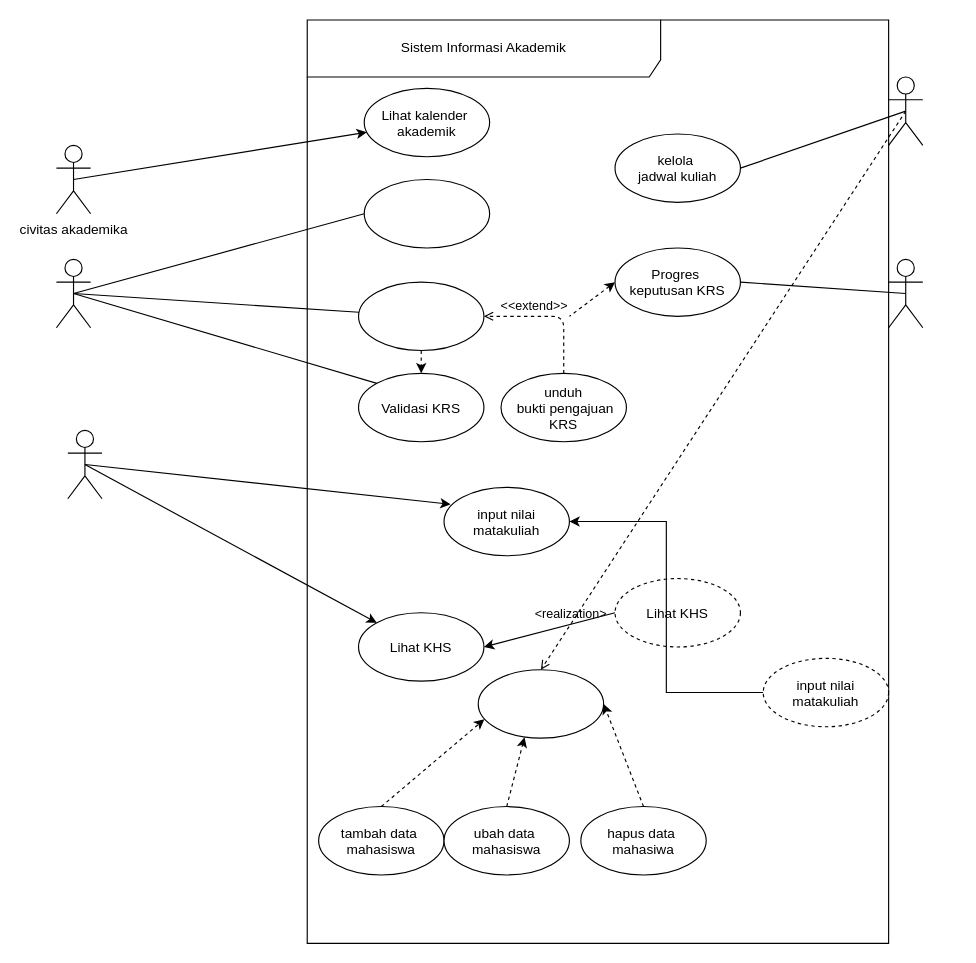
Image size: 976x963. Some labels were removed from this diagram. The centre of each missing label's shape, as x and y in pixels:
"Admin Akademik" goes at [905,110].
"ajukan KRS" goes at [420,316].
"Dosen" goes at [84,464].
"Dosen wali" goes at [905,293].
"kelola data mahasiswa" goes at [540,703].
"Lihat jadwal kuliah" goes at [426,213].
"Mahasiswa" goes at [73,293].
